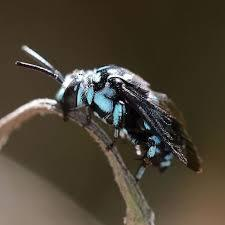Thyreus: (20, 40, 212, 179)
